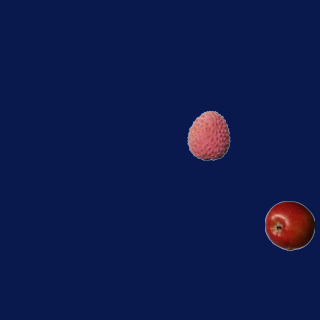Apple Braeburn: (264, 200, 314, 250)
Lychee: (183, 110, 233, 160)
